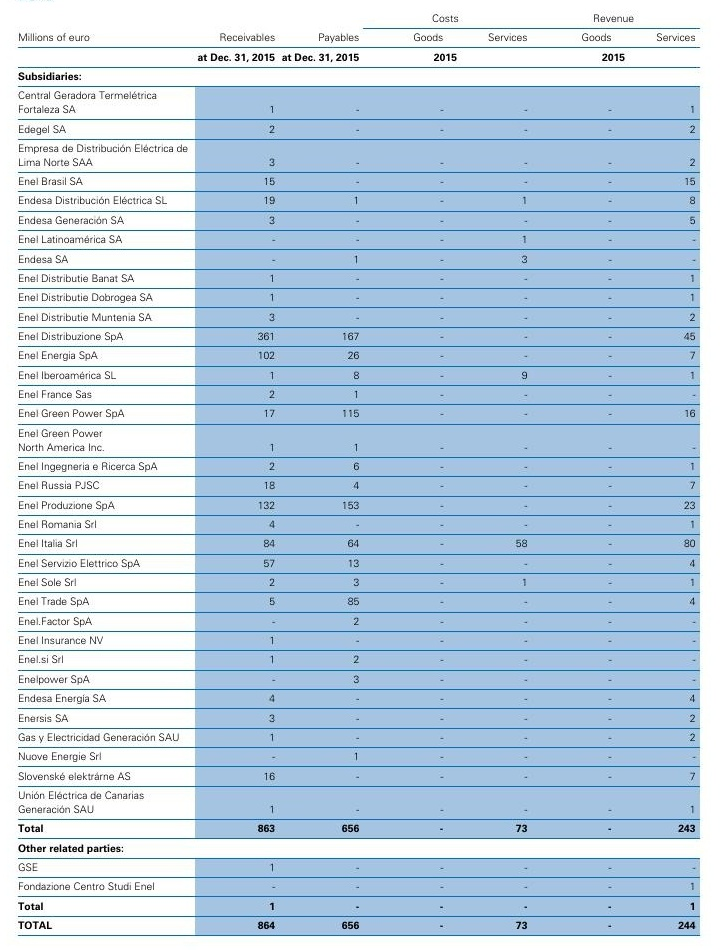table: (0, 0, 723, 950)
